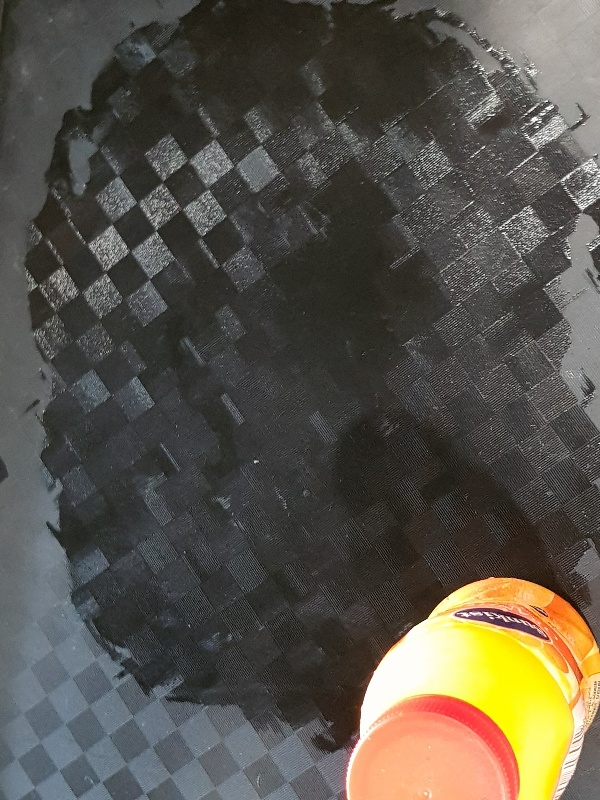Sunkist Orange Juice Drink: (347, 575, 600, 799)
